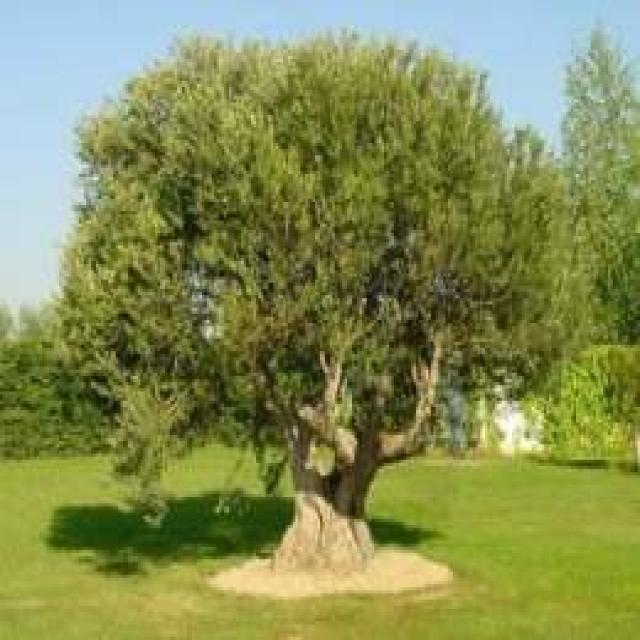olivo: (44, 31, 581, 569)
